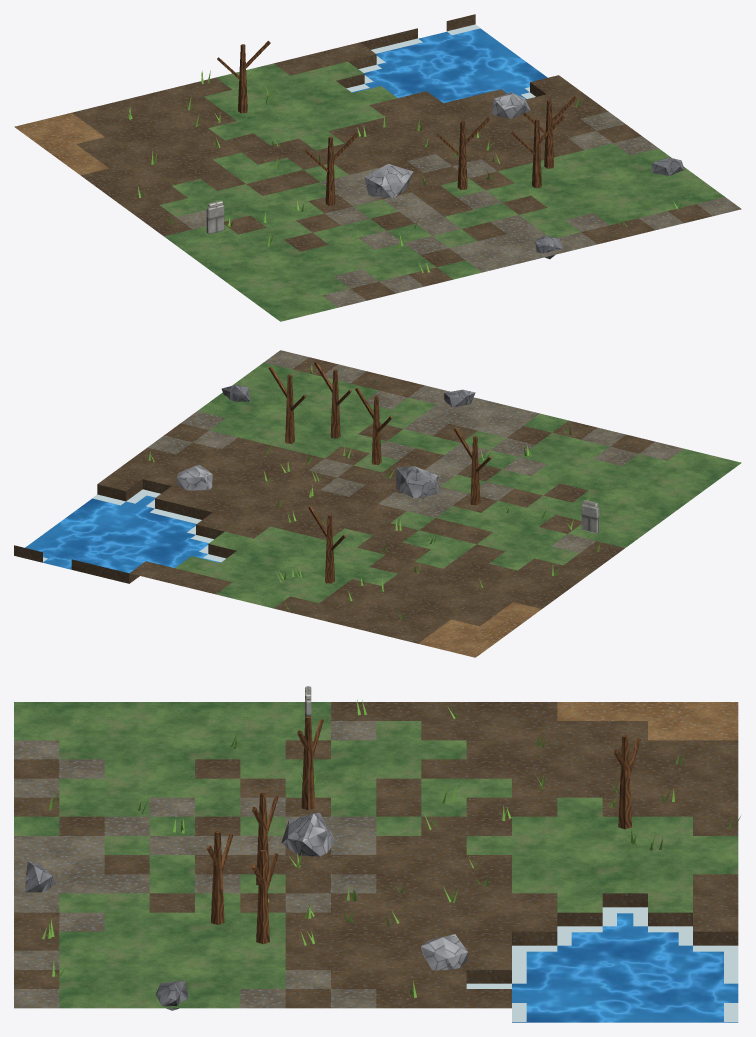
File: chunk_2_18.glb
3 views of the same model, one above another, from view 1: azimuth 30°, elevation 25°; view 2: azimuth 150°, elevation 25°; view 3: azimuth 270°, elevation 25° (orthographic). The views are drawn at different scales.
Parts seen in each view (by area): view 1: chunk_2_18; view 2: chunk_2_18; view 3: chunk_2_18.
Boxes of the visible parts, x1,y1,x2,y2 form: chunk_2_18: (14, 14, 741, 321); chunk_2_18: (14, 350, 741, 657); chunk_2_18: (14, 686, 740, 1022).
Size of the model in its own units: 16 by 2.7 by 16.08.
Materials: 12 (10 with a texture image).
